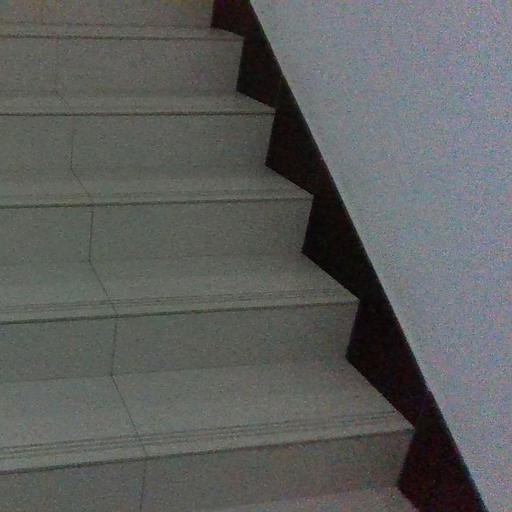Stairs: (0, 0, 422, 512)
